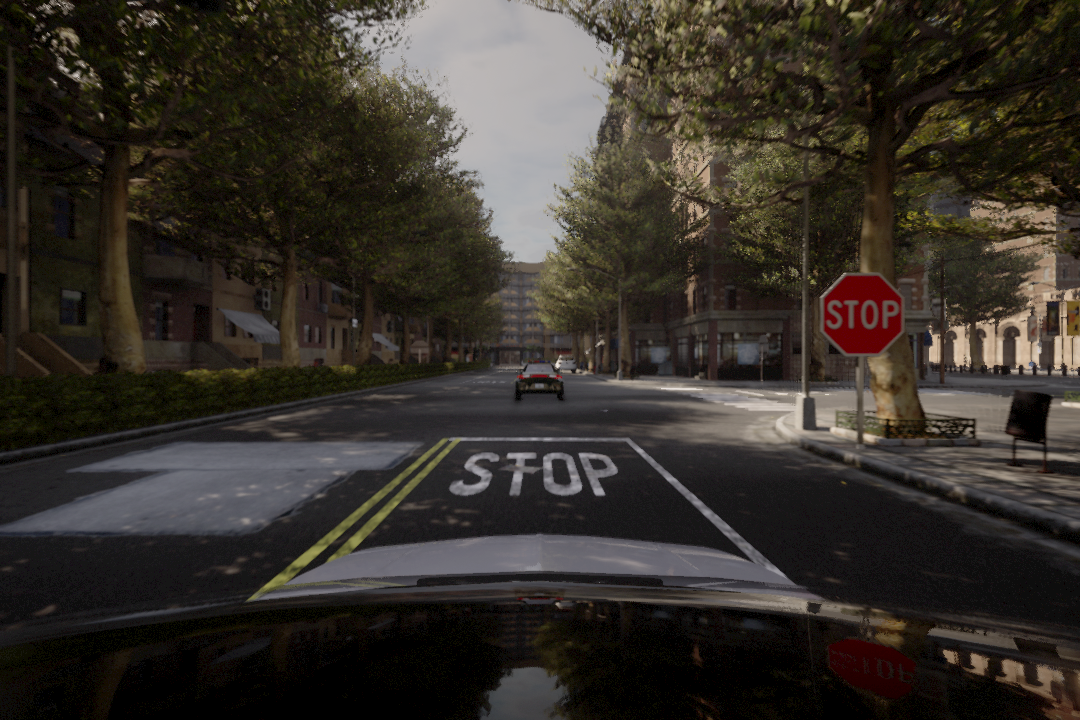TrafficSign_stop: (809, 267, 912, 359)
